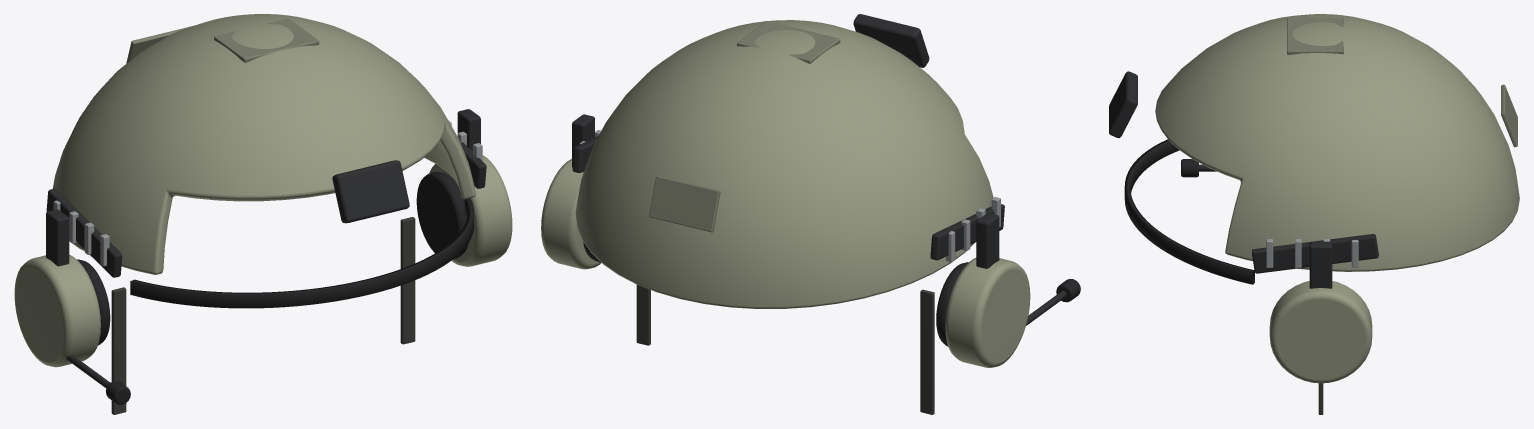
The model's file is helmet_comms_CT.glb.
The picture shows the model from 3 angles, left to right: view 1: azimuth 30°, elevation 25°; view 2: azimuth 150°, elevation 25°; view 3: azimuth 270°, elevation 25°; orthographic projection. The views are drawn at different scales.
Visible parts, largest first — view 1: helmet@Head; view 2: helmet@Head; view 3: helmet@Head.
Boxes of the visible parts, <box> form: helmet@Head: <box>14,14,512,414</box>; helmet@Head: <box>541,14,1080,414</box>; helmet@Head: <box>1109,14,1519,414</box>.
Size of the model in its own units: 0.4177 by 0.3054 by 0.3605.
